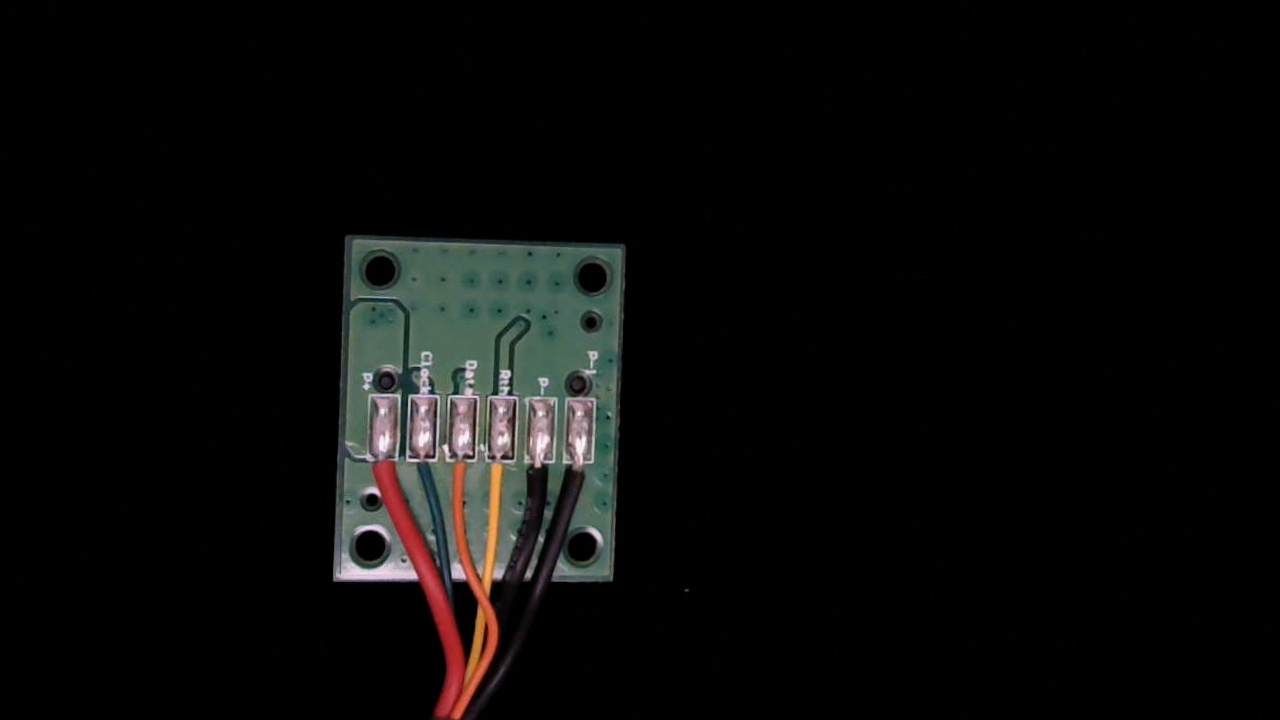Black: (522, 439, 557, 515)
Black1: (561, 442, 596, 512)
Green: (406, 432, 441, 505)
Orange: (444, 440, 477, 515)
Red: (367, 435, 403, 508)
Yellow: (483, 441, 519, 519)
